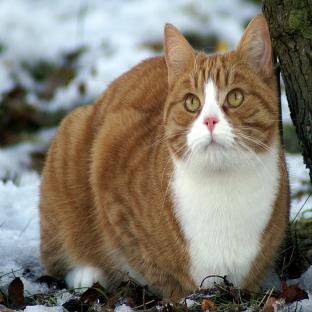Animal: (39, 15, 289, 301)
